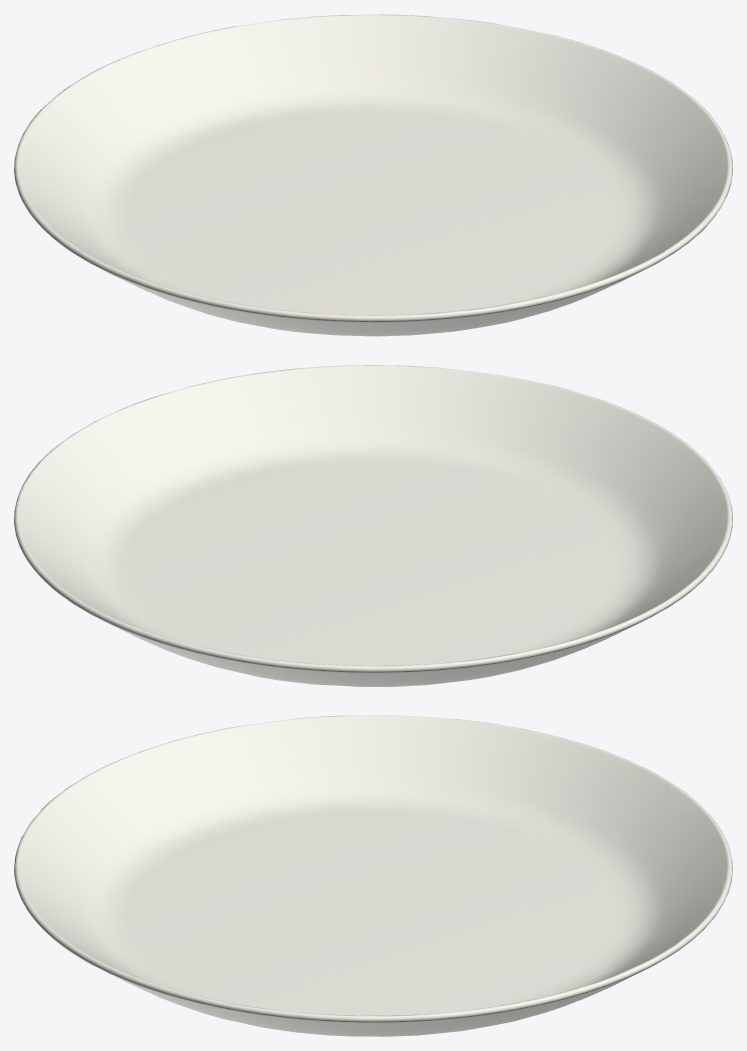
The model's file is oftast_talerz_30258913.glb.
The picture shows the model from 3 angles, top to bottom: view 1: azimuth 30°, elevation 25°; view 2: azimuth 150°, elevation 25°; view 3: azimuth 270°, elevation 25°; orthographic projection.
Parts seen in each view (by area): view 1: oftast_talerz_30258913; view 2: oftast_talerz_30258913; view 3: oftast_talerz_30258913.
Part boxes in pixels (box(x1,y1,x2,y2)): oftast_talerz_30258913: box(14, 14, 732, 336); oftast_talerz_30258913: box(14, 365, 732, 686); oftast_talerz_30258913: box(14, 715, 732, 1036).
Size of the model in its own units: 0.2498 by 0.022 by 0.2499.
Materials: 1 (1 with a texture image).
